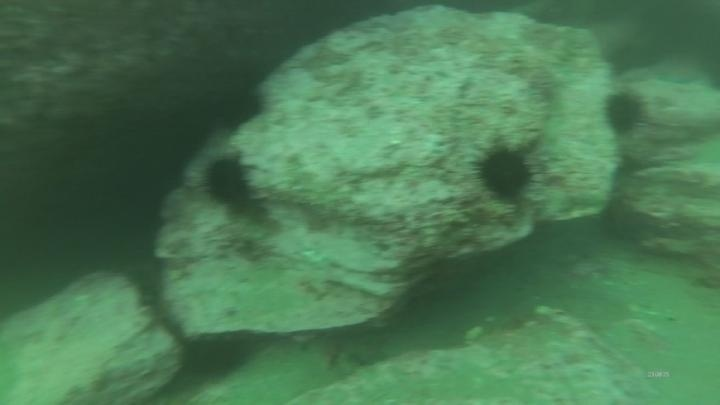echinus: (469, 139, 541, 206), (179, 325, 254, 386), (199, 151, 255, 210), (210, 82, 267, 133), (601, 88, 648, 138)
starfish: (650, 52, 709, 91)
